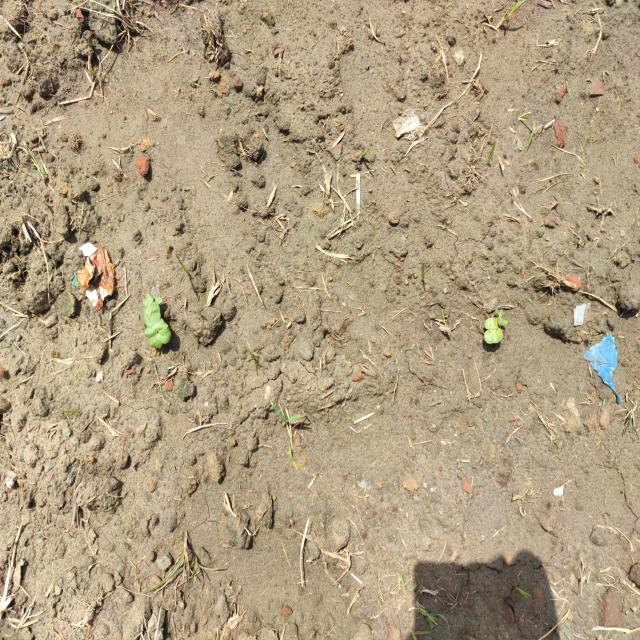seedling_s1: (144, 324, 162, 349), (155, 318, 171, 344), (484, 327, 503, 344), (143, 305, 154, 328), (496, 309, 508, 327), (150, 304, 161, 323), (484, 317, 499, 330), (142, 293, 155, 306), (152, 297, 162, 305)
